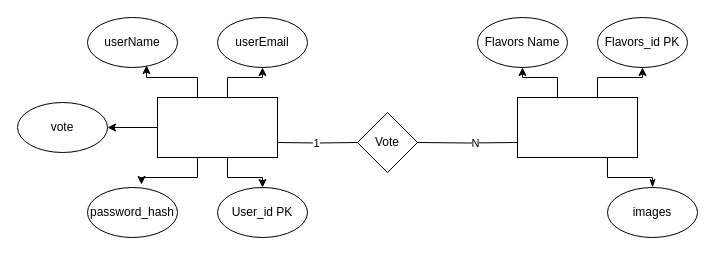
Some shapes in this 715 by 255 pixel diagram are drawn without their labels. Each missing label, with the centre of its shape:
Ice Cream Flavors: pixel 577 127
Users: pixel 217 127
